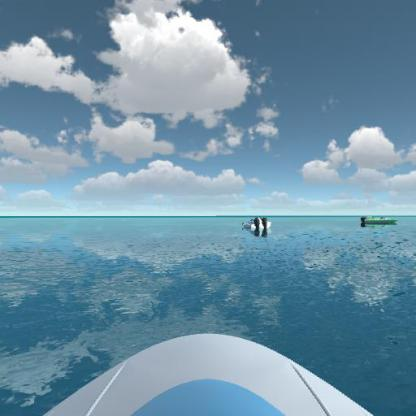usv0: (362, 210, 397, 228)
usv1: (241, 214, 273, 234)
